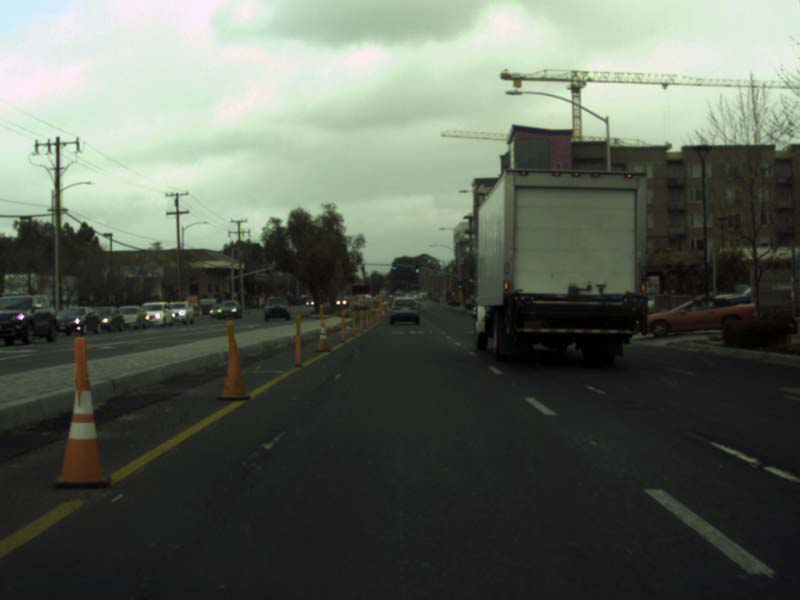Green: (472, 283, 476, 292), (392, 261, 395, 269), (415, 264, 418, 272), (458, 281, 461, 287)
Red: (360, 264, 364, 271)
